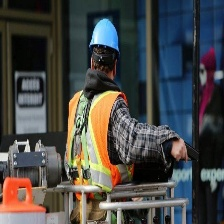helmet: (86, 18, 122, 54)
person: (64, 15, 129, 190)
vest: (67, 90, 131, 190)
